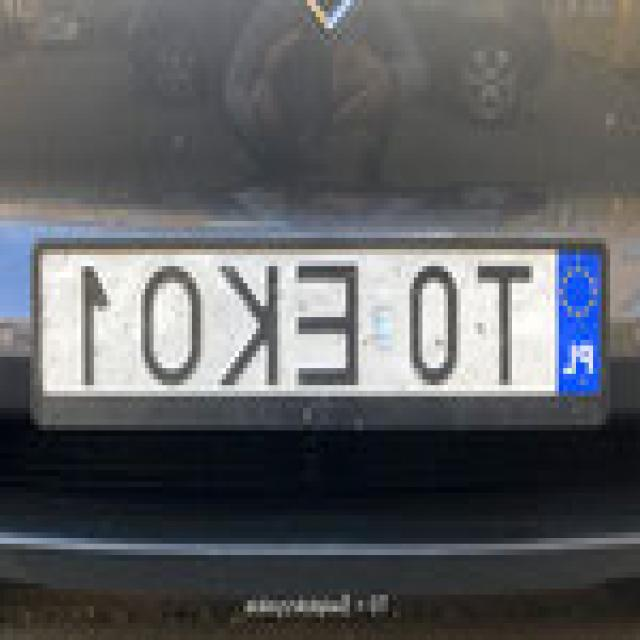pl_license_plate: (47, 238, 610, 391)
